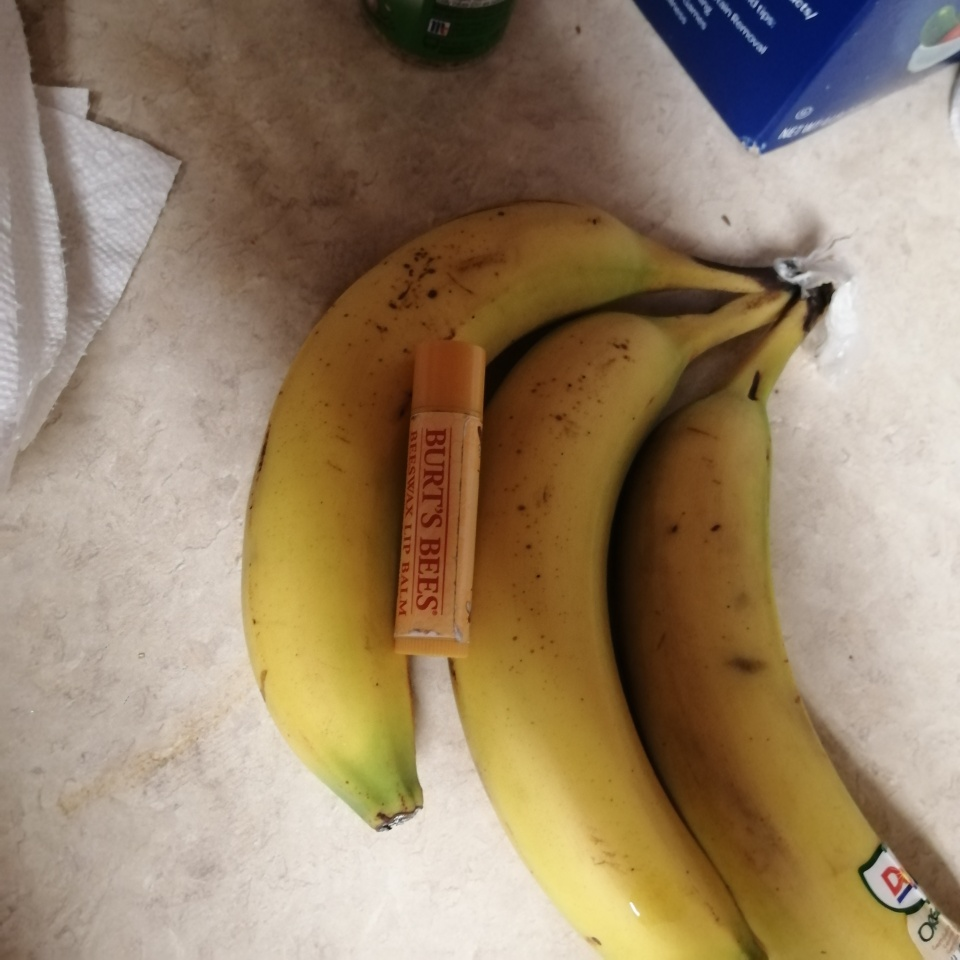chapstick: (392, 338, 488, 661)
